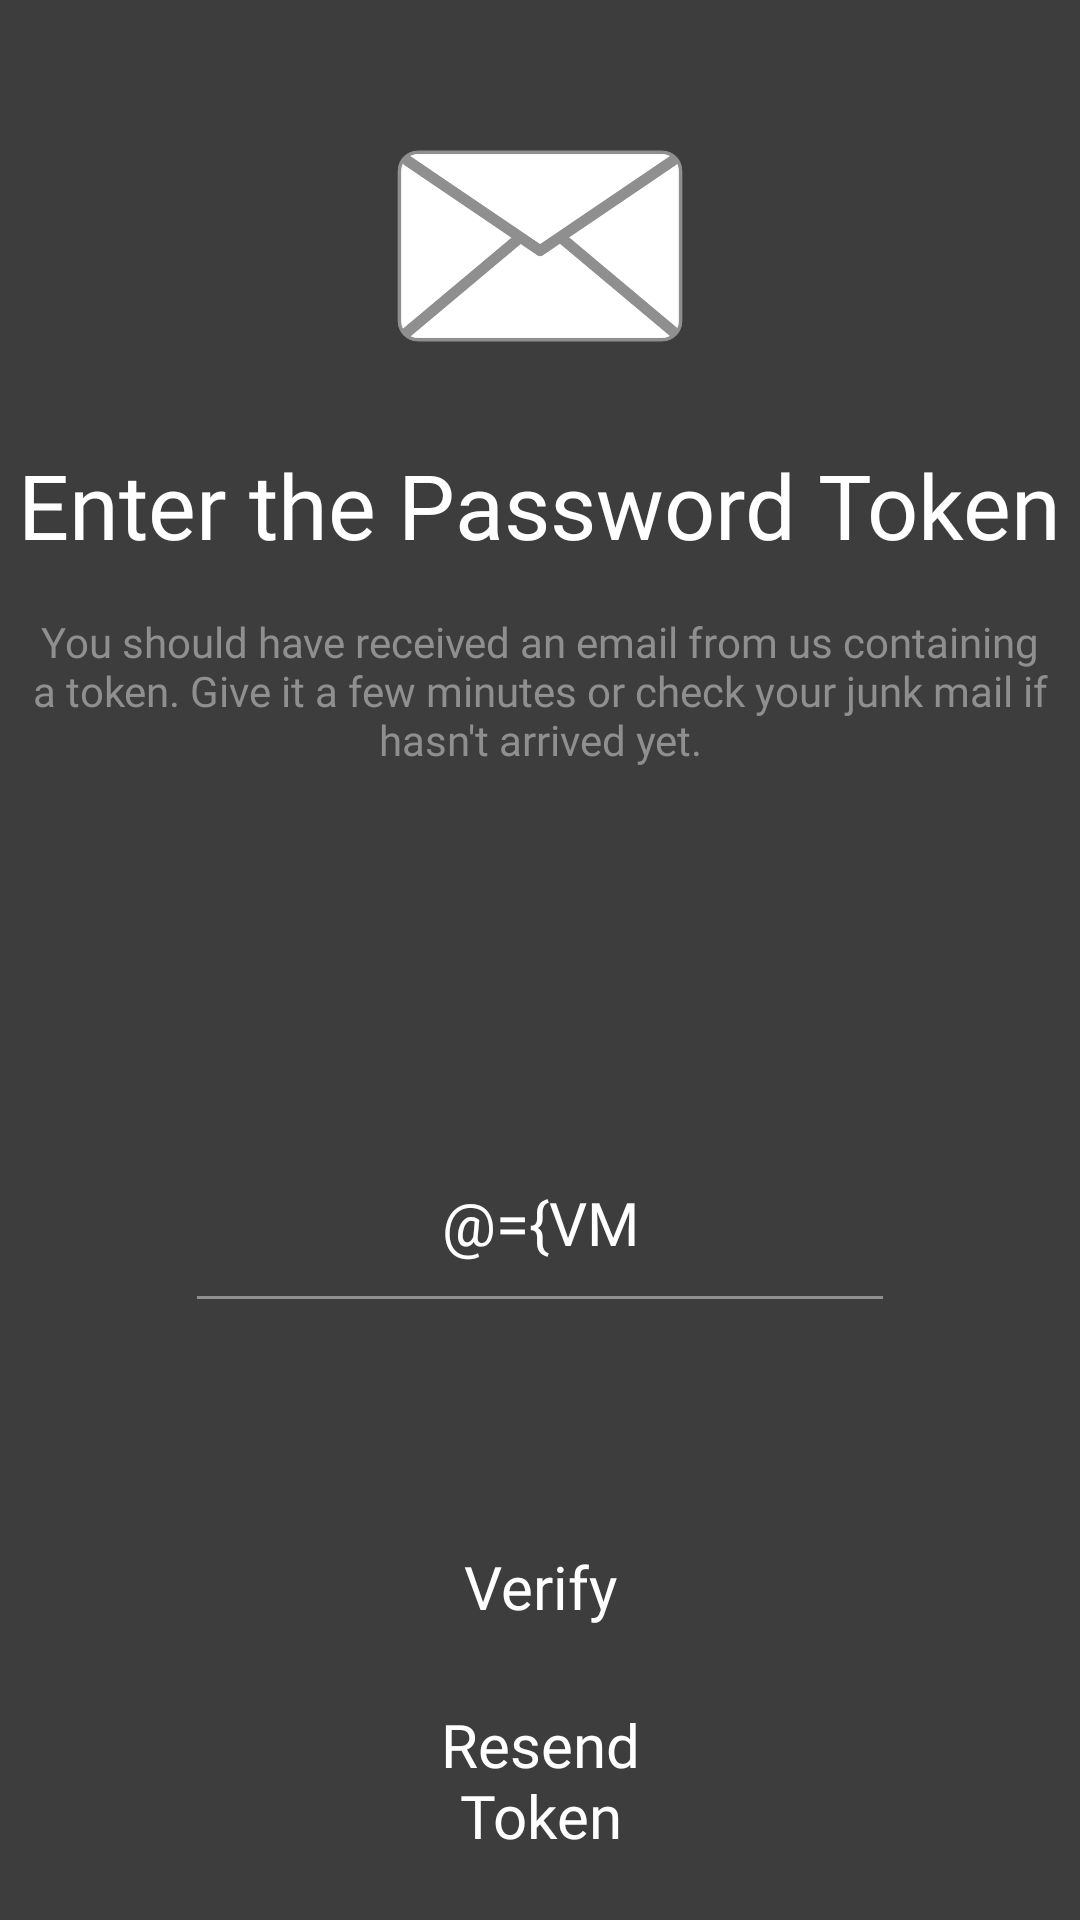

Icons on this 1080*1920 Android screen, each with its box as (left=x1, top=y1, right=x2, bottom=y2):
email: (left=397, top=150, right=683, bottom=342)
